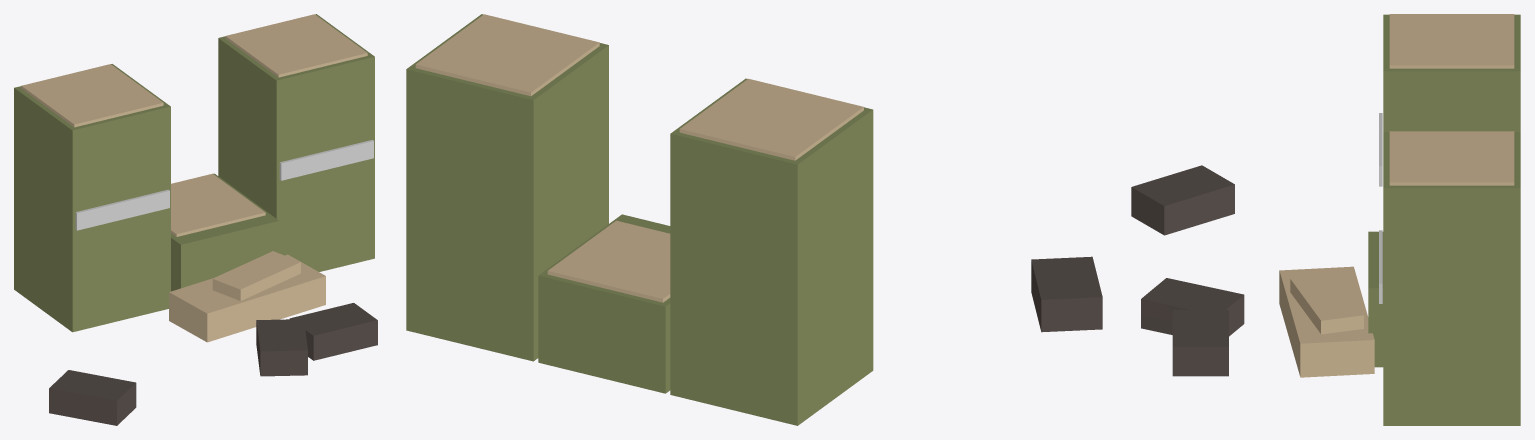
File: SM_HescoCorto3_v2_Escalonado_e1_Danado_LOD1.fbx
3 renders of one model, left to right at view 1: azimuth 30°, elevation 25°; view 2: azimuth 150°, elevation 25°; view 3: azimuth 270°, elevation 25°, orthographic. The views are drawn at different scales.
Parts seen in each view (by area): view 1: SM_hesco_piezas_v89_LOD1; view 2: SM_hesco_piezas_v89_LOD1; view 3: SM_hesco_piezas_v89_LOD1.
Part boxes in pixels (x1,y1,x2,y2): SM_hesco_piezas_v89_LOD1: (14, 14, 377, 425); SM_hesco_piezas_v89_LOD1: (406, 14, 1102, 425); SM_hesco_piezas_v89_LOD1: (1131, 14, 1520, 425).
Bounding box in the file's own units: 4.39 × 2.13 × 3.12.
